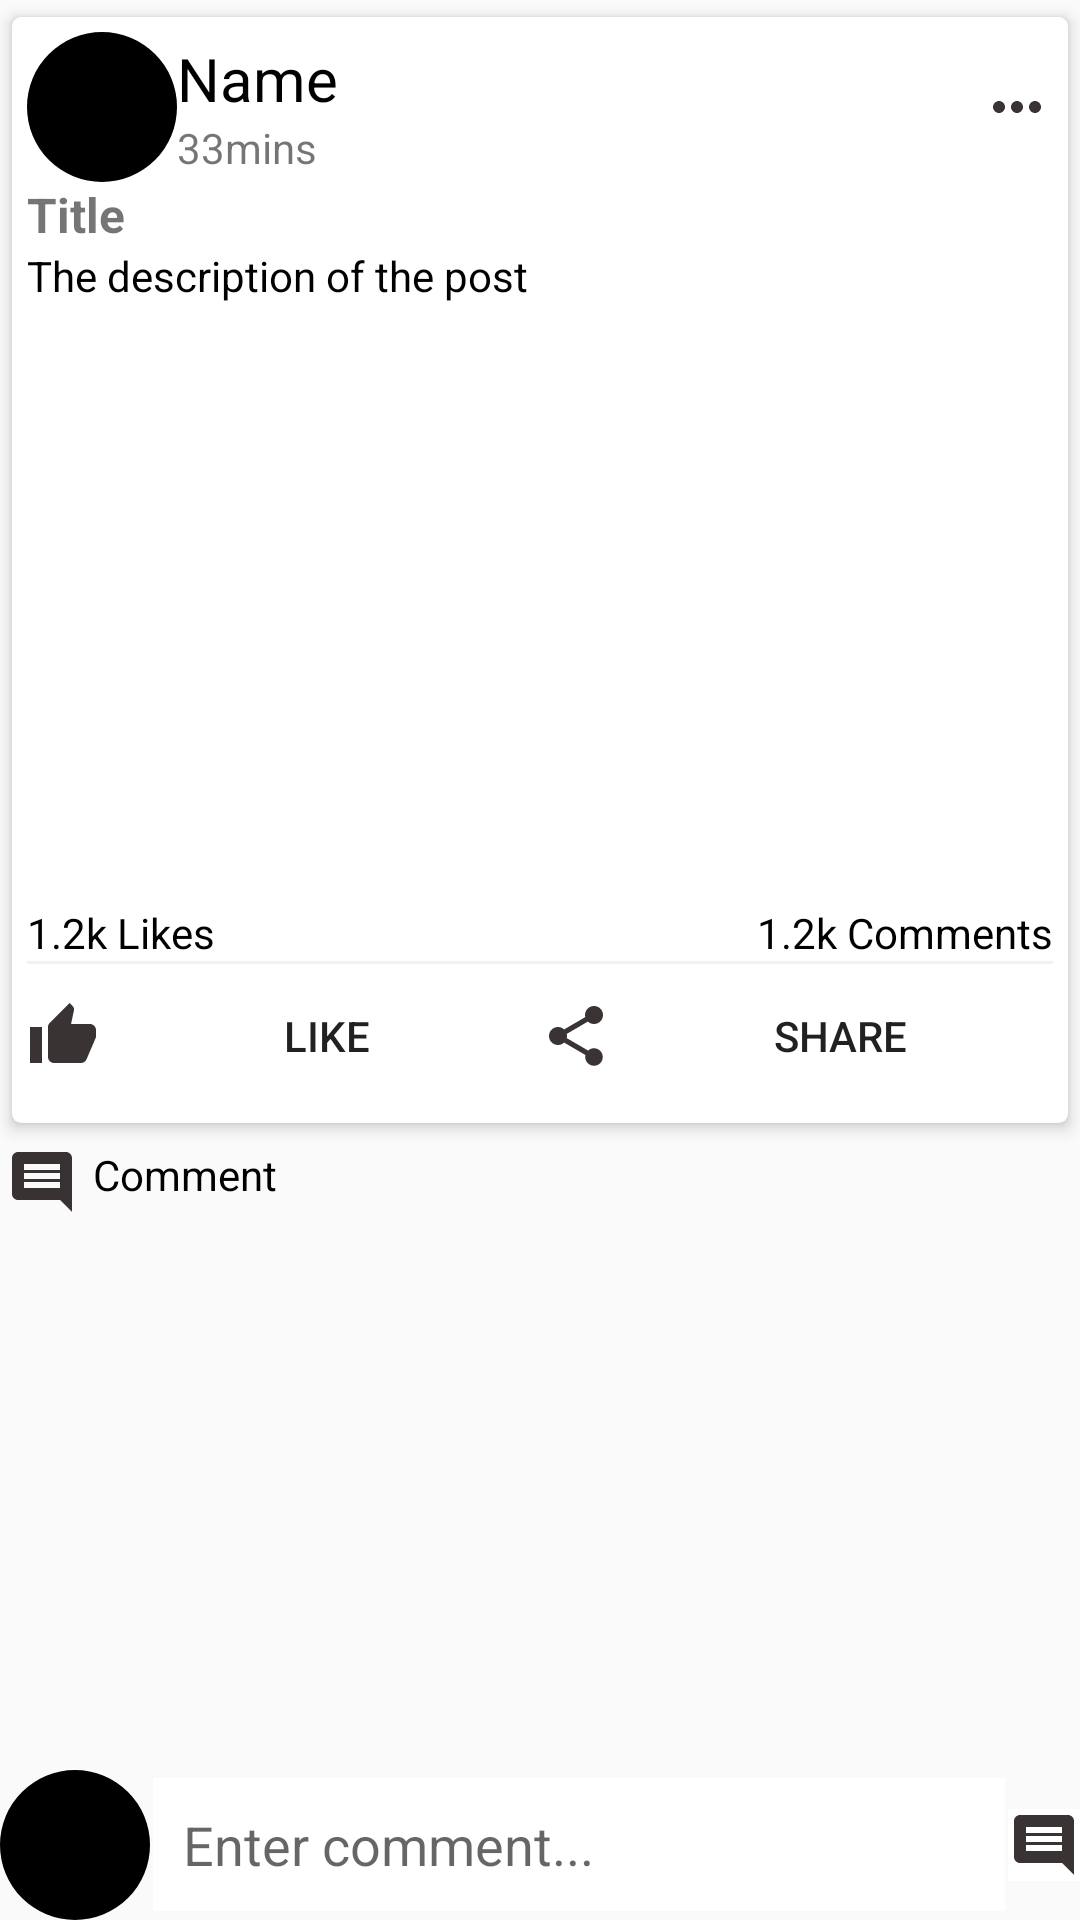

Icons on this 1080*1920 Android screen, each with the point to tap as [x,y]:
more: [1017,107]
